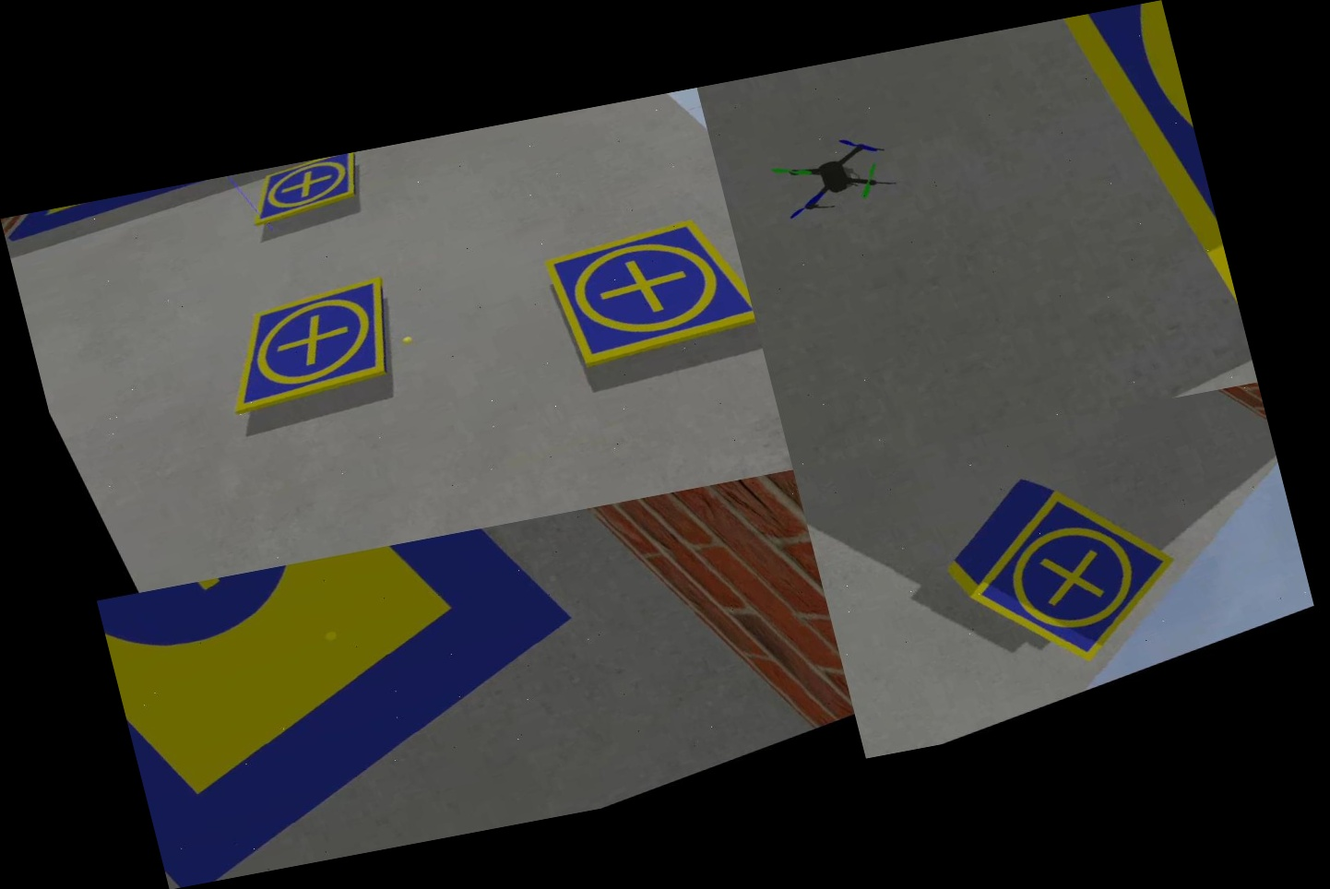large_base: (97, 511, 644, 889), (0, 164, 298, 255)
small_base: (1023, 0, 1243, 352), (937, 461, 1208, 692), (525, 194, 764, 388), (186, 262, 431, 433), (235, 149, 382, 235)
